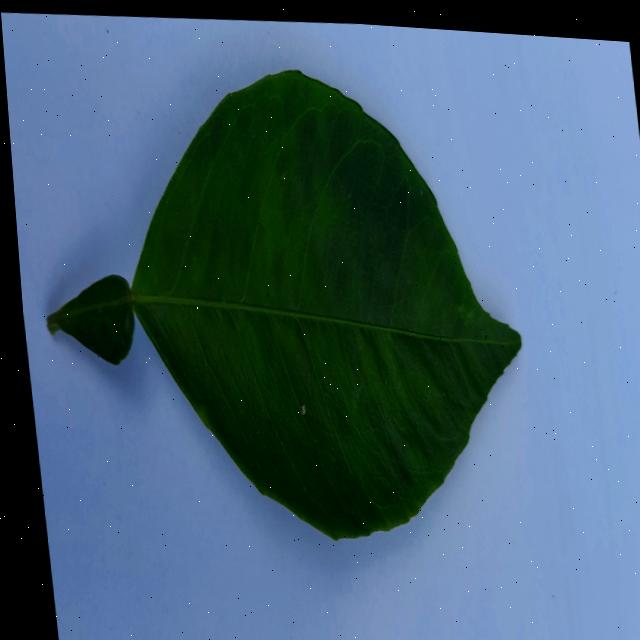greening: (127, 71, 520, 537)
